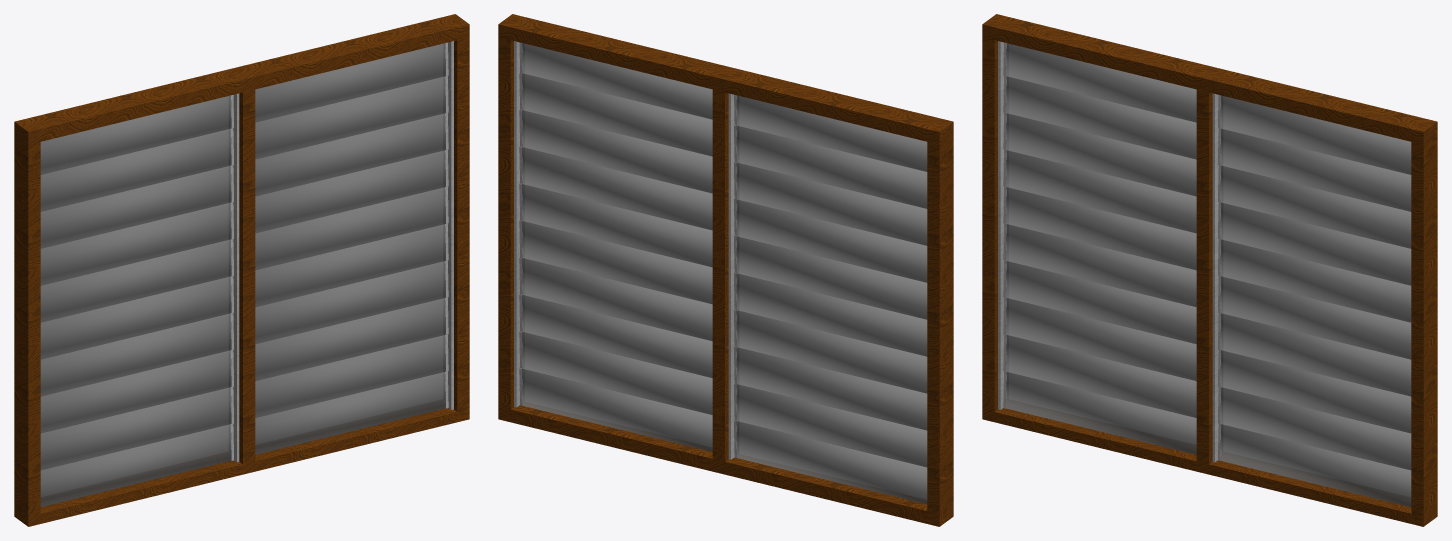
3 views of the same model, side by side, from view 1: azimuth 30°, elevation 25°; view 2: azimuth 150°, elevation 25°; view 3: azimuth 330°, elevation 25° (orthographic).
Visible parts, largest first — view 1: group_4 (×20), group_0 (×3), shutter_houder_ (×2); view 2: group_4 (×20), group_0 (×3), shutter_houder_ (×2); view 3: group_4 (×20), group_0 (×3), shutter_houder_ (×2).
Boxes of the visible parts, left/top/right/bottom form: group_4 (×20): left=40, top=43, right=445, bottom=507; group_0 (×3): left=14, top=14, right=469, bottom=526; shutter_houder_ (×2): left=233, top=41, right=453, bottom=462; group_4 (×20): left=520, top=43, right=927, bottom=504; group_0 (×3): left=498, top=14, right=953, bottom=526; shutter_houder_ (×2): left=514, top=41, right=734, bottom=459; group_4 (×20): left=1006, top=43, right=1411, bottom=507; group_0 (×3): left=982, top=14, right=1437, bottom=526; shutter_houder_ (×2): left=998, top=41, right=1218, bottom=462.
Size of the model in its own units: 70.87 by 3.94 by 60.63.
Materials: 3 (2 with a texture image).
